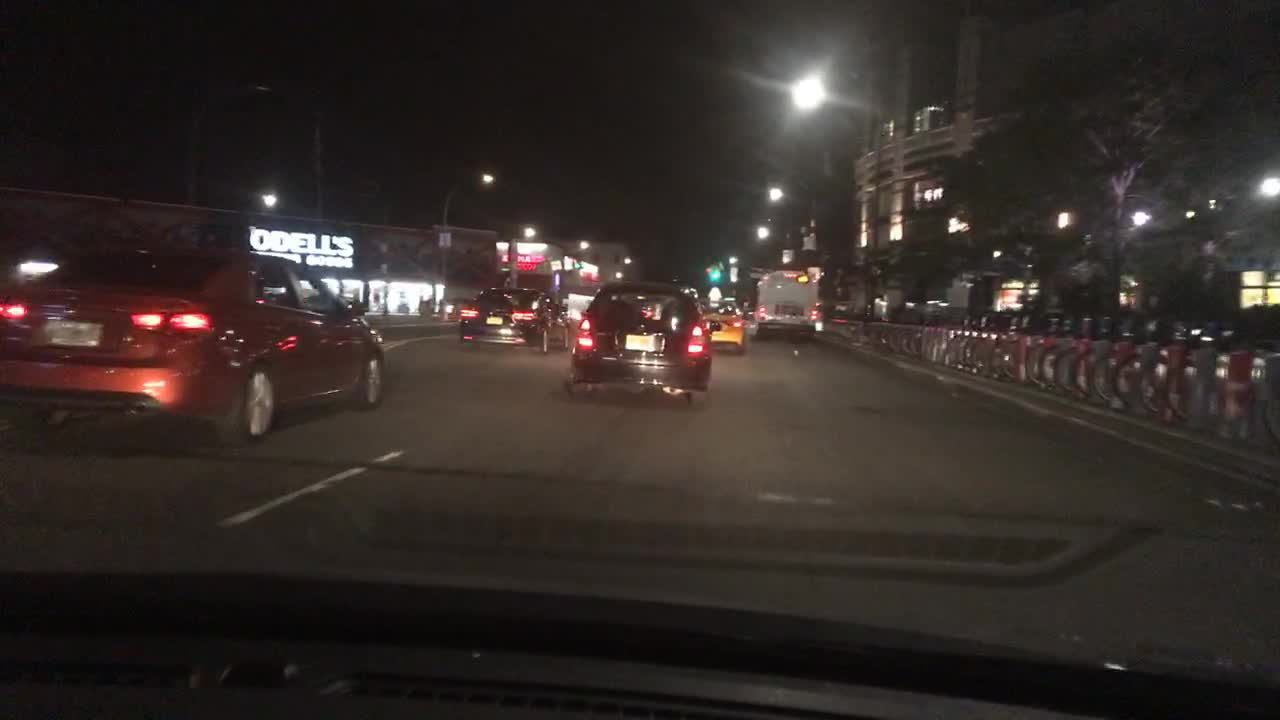bike: (1218, 329, 1279, 437), (1162, 334, 1236, 418), (1139, 336, 1206, 423), (1108, 330, 1172, 406), (1021, 316, 1074, 388), (1070, 332, 1126, 399), (1055, 328, 1097, 401), (866, 305, 926, 352), (1041, 320, 1082, 388), (940, 314, 993, 364), (961, 314, 1003, 373), (982, 319, 1015, 383)
car: (0, 244, 387, 444), (566, 280, 720, 404), (458, 287, 570, 356), (698, 285, 747, 352)
traffic light: (711, 265, 719, 280), (706, 263, 711, 280)
truck: (754, 270, 824, 338)
